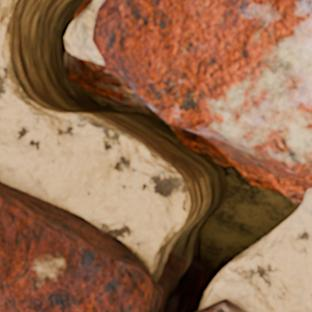brick: (93, 0, 311, 187)
broken_brick: (0, 180, 161, 311), (201, 298, 248, 311)
crack: (0, 0, 309, 311)
